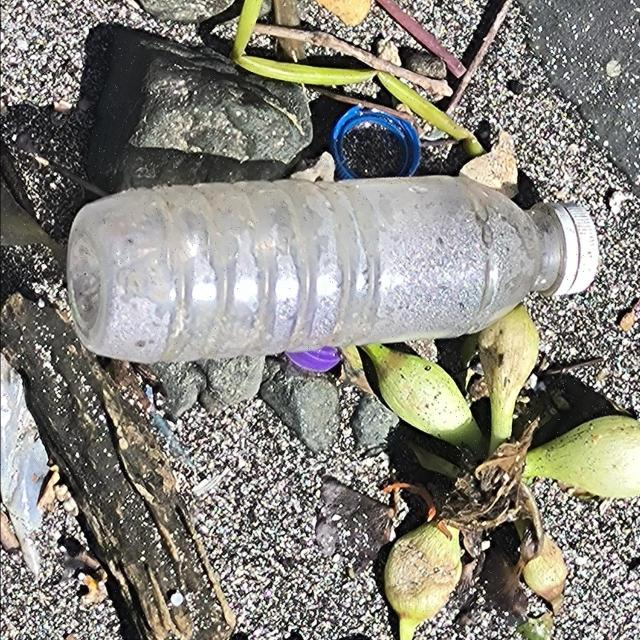plastic_waste: (68, 185, 605, 367), (327, 105, 422, 182)
